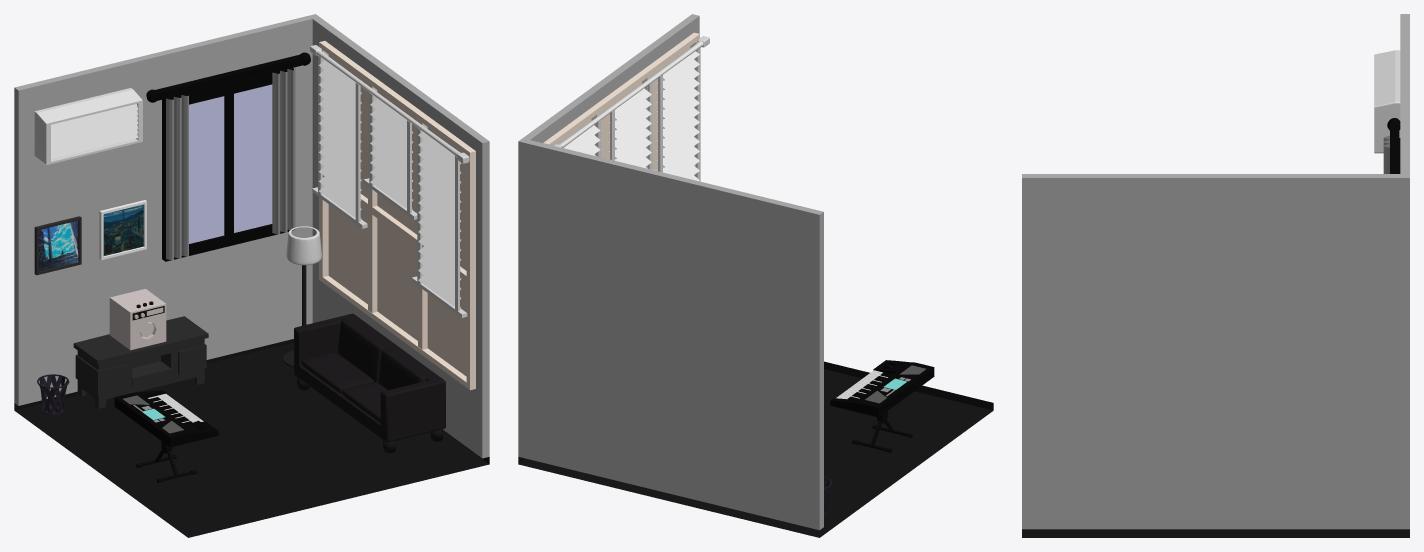
Rendered from modernroom.gltf.
The picture shows the model from 3 angles, left to right: view 1: azimuth 30°, elevation 25°; view 2: azimuth 150°, elevation 25°; view 3: azimuth 270°, elevation 25°; orthographic projection. The views are drawn at different scales.
Parts seen in each view (by area): view 1: room_side1, room_bottom, howwindow, window, room_side2, window clothes, sofa, drawer, sofa cushion, howwindow_wing_3, howwindow_wing_1, aircon_wrap (+13 smaller); view 2: room_side1, room_bottom, room_side2, howwindow_wing_3, howwindow, howwindow_wing_2, keyboard, howwindow_stick, howwindow_wrap_3, howwindow_wrap_2, howwindow_wing_1; view 3: room_side2, room_side1, room_bottom, aircon_wrap, window top.
Boxes of the visible parts, x1,y1,x2,y2 form: room_side1: (14,14,319,405); room_bottom: (14,339,489,537); howwindow: (319,41,475,390); window: (162,68,293,261); room_side2: (312,15,489,458); window clothes: (166,68,295,260); sofa: (294,313,445,442); drawer: (73,316,208,408); sofa cushion: (301,319,426,422); howwindow_wing_3: (418,131,460,307); howwindow_wing_1: (319,60,361,218); aircon_wrap: (34,88,142,165); room_side1: (519,139,823,530); room_bottom: (518,361,993,537); room_side2: (518,14,699,458); howwindow_wing_3: (657,51,699,181); howwindow: (543,32,699,176); howwindow_wing_2: (609,88,651,168); keyboard: (830,360,934,417); howwindow_stick: (554,36,709,147); howwindow_wrap_3: (658,48,700,181); howwindow_wrap_2: (610,82,656,170); howwindow_wing_1: (564,125,600,156); room_side2: (1022,174,1409,529); room_side1: (1400,14,1409,529); room_bottom: (1022,529,1409,537); aircon_wrap: (1374,50,1400,153); window top: (1390,123,1399,173).
Size of the model in its own units: 8.2 by 8.4 by 8.2.
25 materials, 2 textured.
